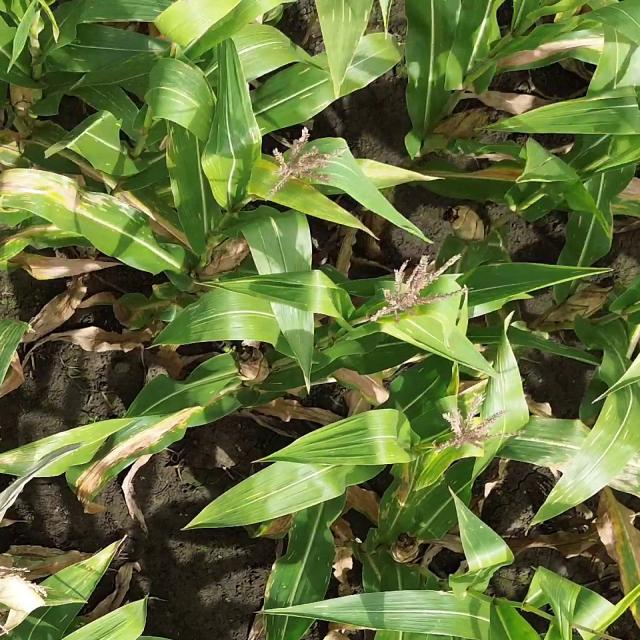gray-leaf-spot: (19, 172, 146, 234), (536, 422, 640, 491), (267, 542, 331, 608), (573, 178, 613, 262), (56, 29, 120, 76), (272, 68, 336, 115), (157, 63, 213, 113), (55, 554, 113, 600), (320, 5, 372, 50), (94, 84, 139, 120)
northern-leaf-blight: (88, 416, 171, 504), (434, 162, 542, 204), (505, 32, 615, 70), (382, 467, 420, 526)
